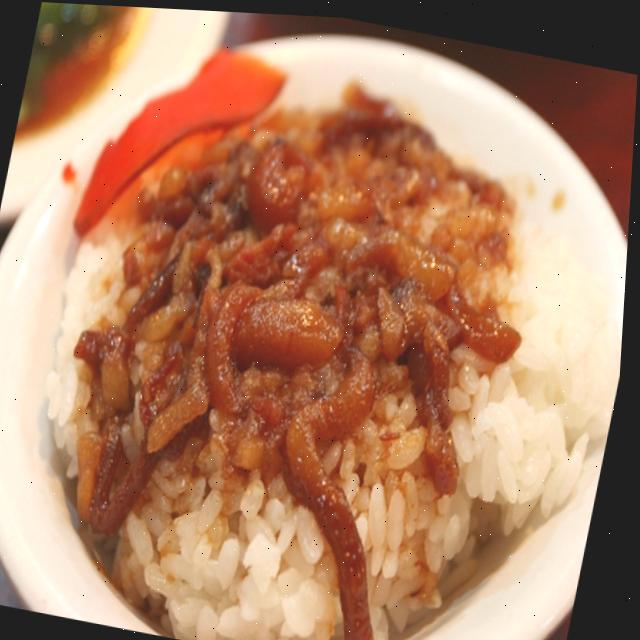猪肉菜式: (12, 15, 635, 640)
